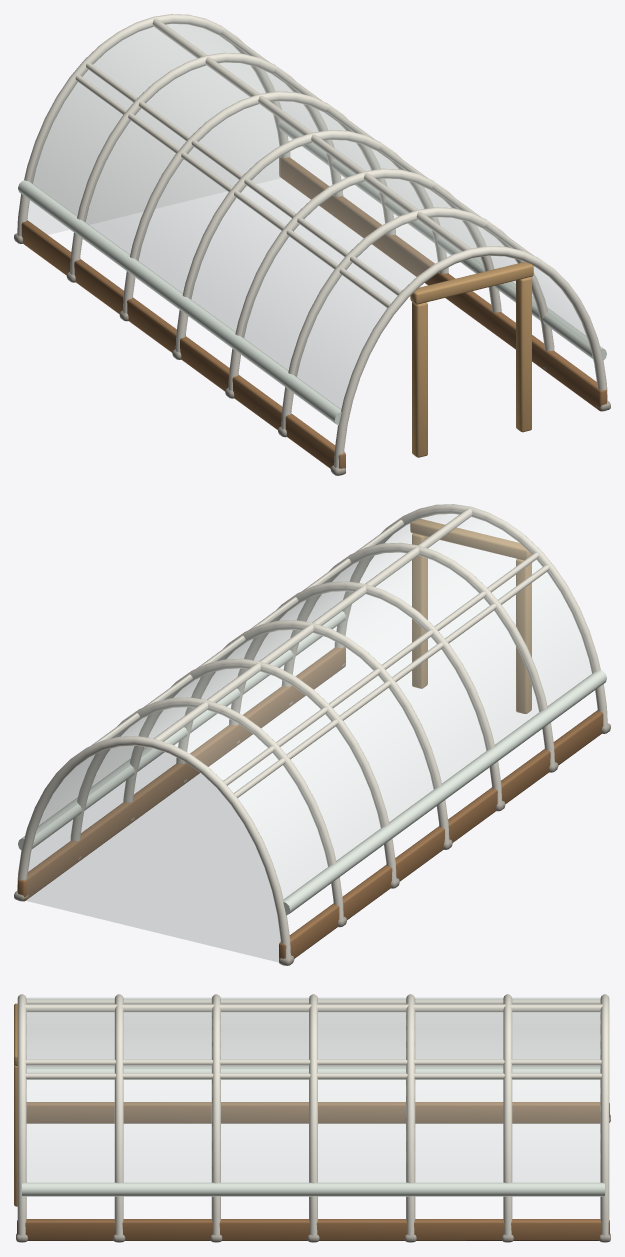
File: greenhouse.glb
3 views of the same model, one above another, from view 1: azimuth 30°, elevation 25°; view 2: azimuth 150°, elevation 25°; view 3: azimuth 270°, elevation 25° (orthographic). The views are drawn at different scales.
Parts seen in each view (by area): view 1: film, frame; view 2: film, frame; view 3: film, frame.
Boxes of the visible parts, x1,y1,x2,y2 form: film: [27, 19, 588, 408]; frame: [14, 14, 610, 475]; film: [26, 509, 594, 962]; frame: [14, 504, 610, 965]; film: [26, 997, 600, 1182]; frame: [14, 994, 610, 1242].
Size of the model in its own units: 2.92 by 1.94 by 5.94.
